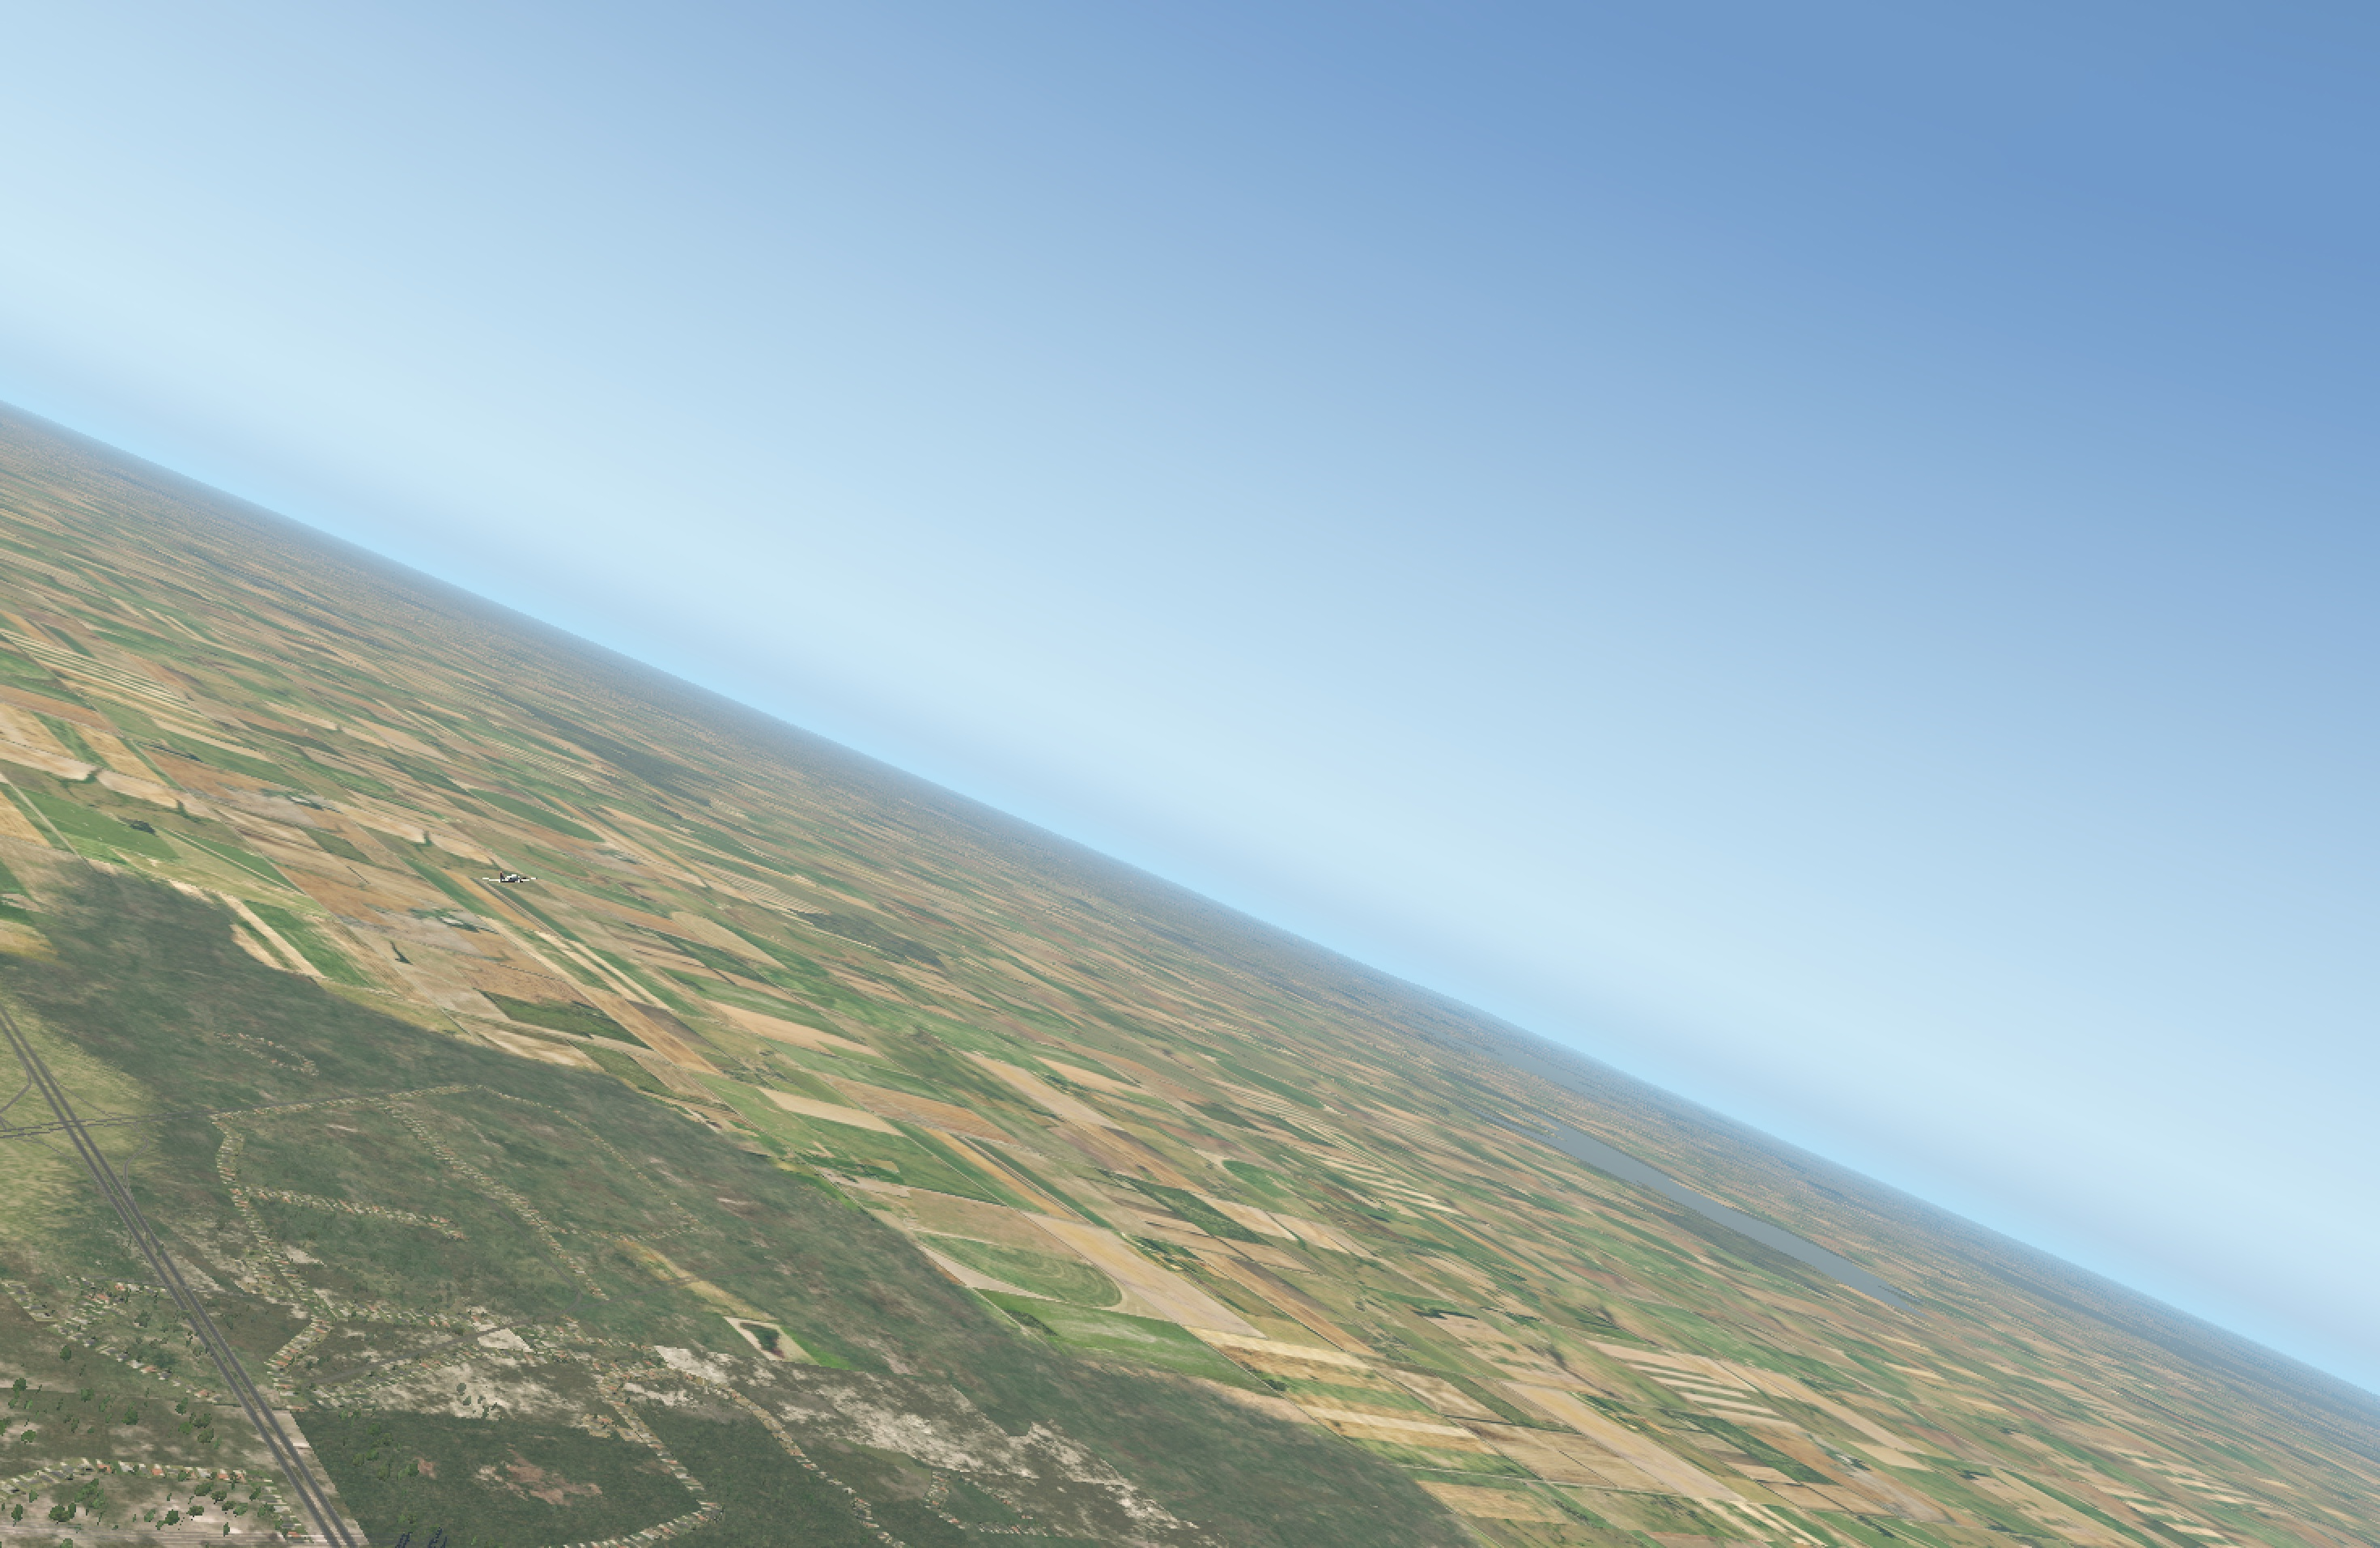aircraft: (484, 869, 543, 894)
